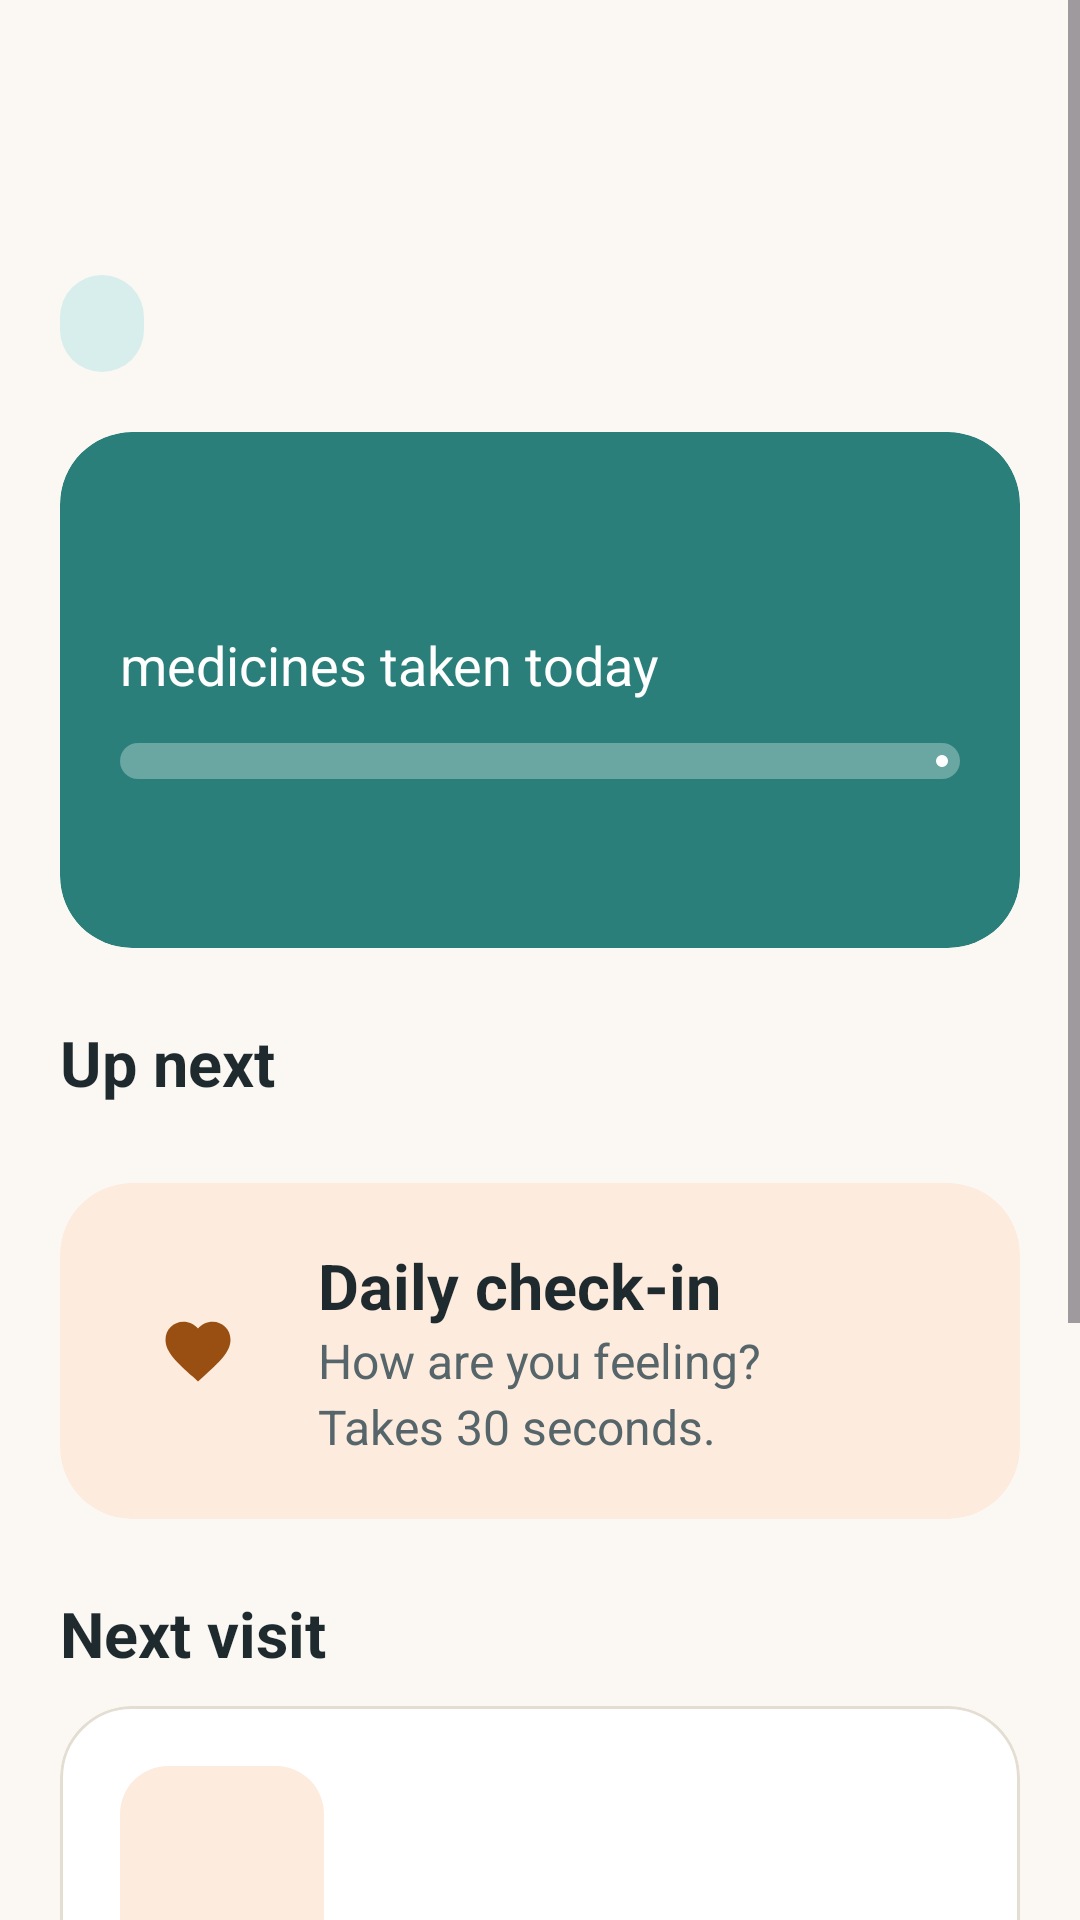

Where icons sit on this 1080*1920 app screen, as (x1, y1, x2, y2):
heart: (165, 1321, 231, 1382)
